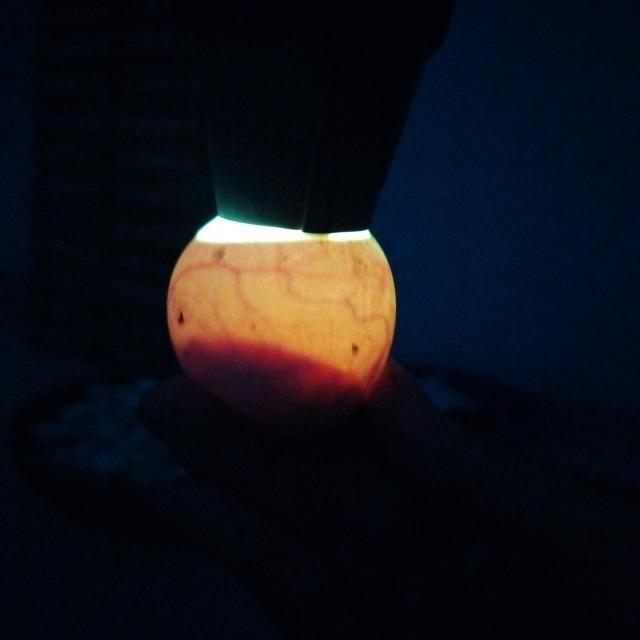Embriao: (174, 340, 378, 433)
